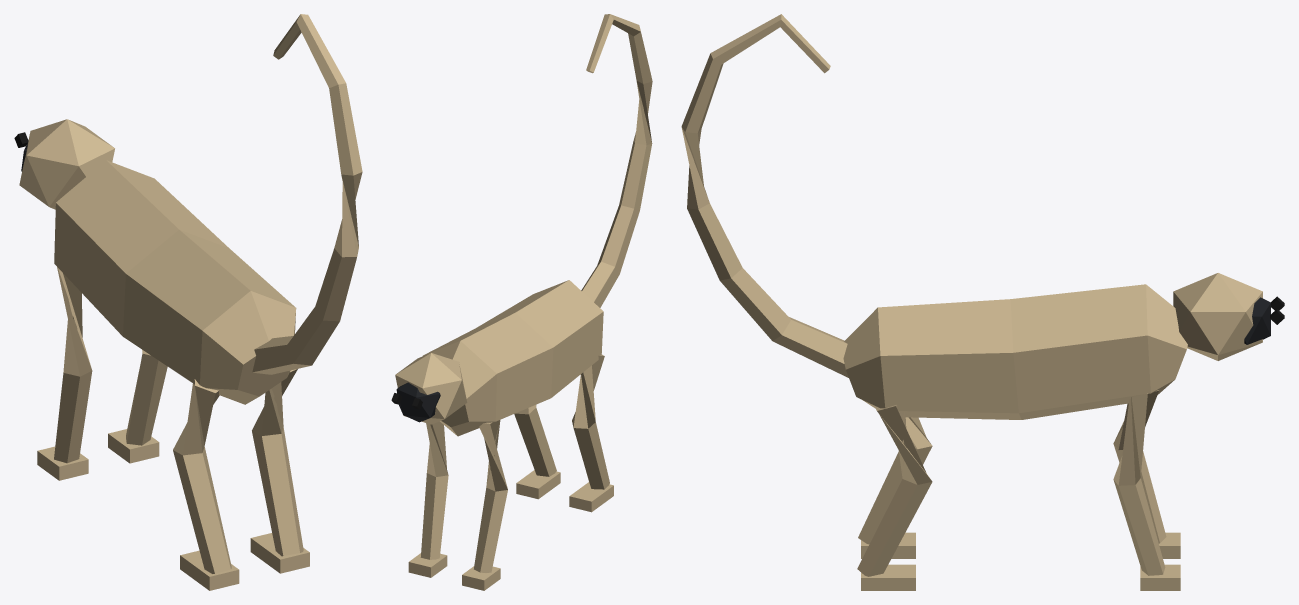
The model's file is muriqui_do_sul.glb.
3 renders of one model, left to right at view 1: azimuth 30°, elevation 25°; view 2: azimuth 150°, elevation 25°; view 3: azimuth 270°, elevation 25°, orthographic. The views are drawn at different scales.
Parts seen in each view (by area): view 1: corpo; view 2: corpo; view 3: corpo.
Part boxes in pixels (x1,y1,x2,y2): corpo: (14,14,362,590); corpo: (391,14,652,590); corpo: (681,14,1284,590).
Size of the model in its own units: 0.1881 by 1 by 0.9876.
